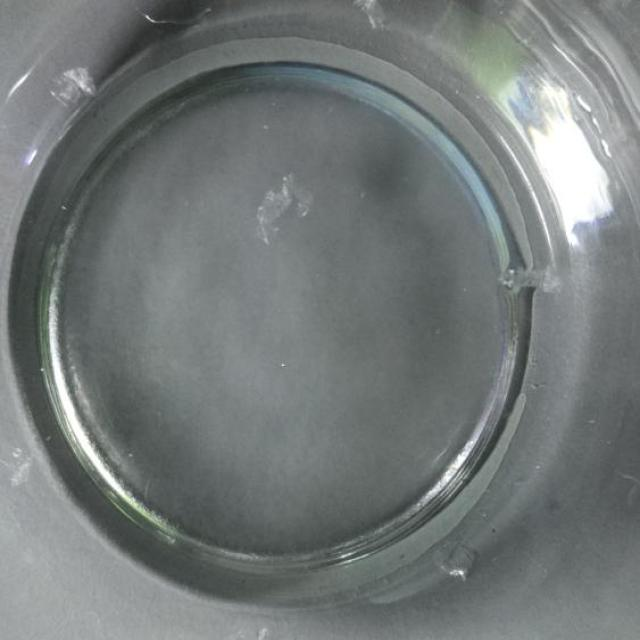fiber: (258, 163, 313, 249), (50, 62, 105, 116), (0, 436, 39, 489), (497, 266, 564, 296), (432, 539, 479, 580), (352, 0, 386, 45), (201, 622, 290, 639)
